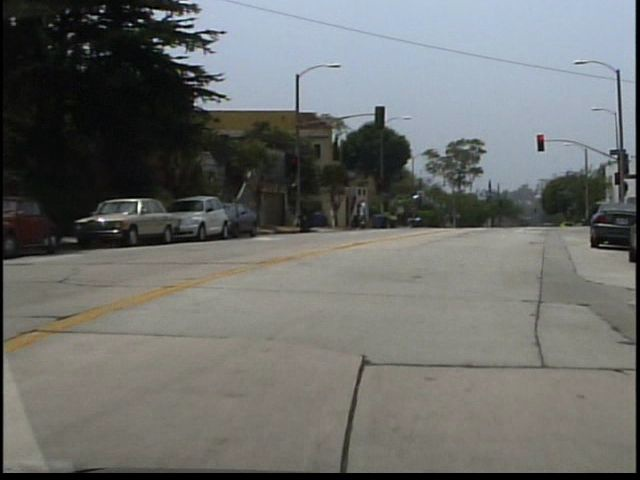person: (362, 199, 374, 232), (334, 204, 343, 231)
